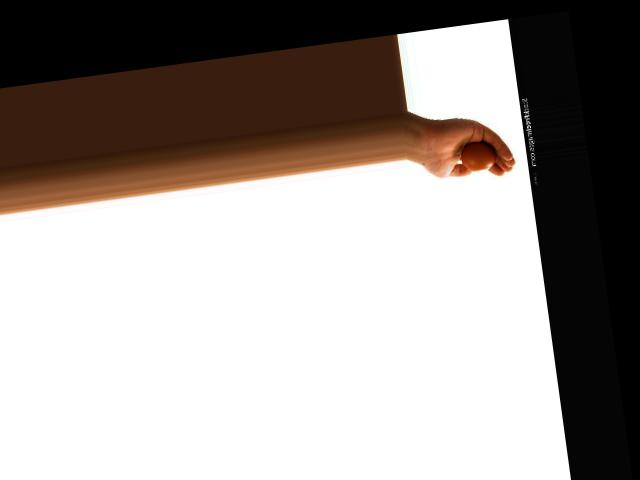egg: (459, 140, 499, 172)
